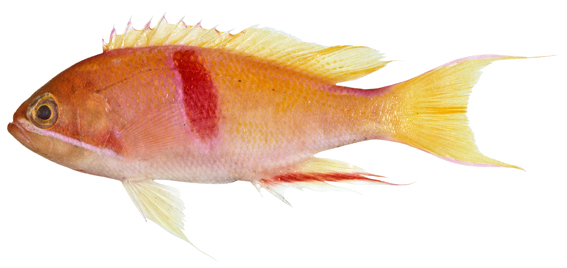fish: (7, 11, 557, 261)
